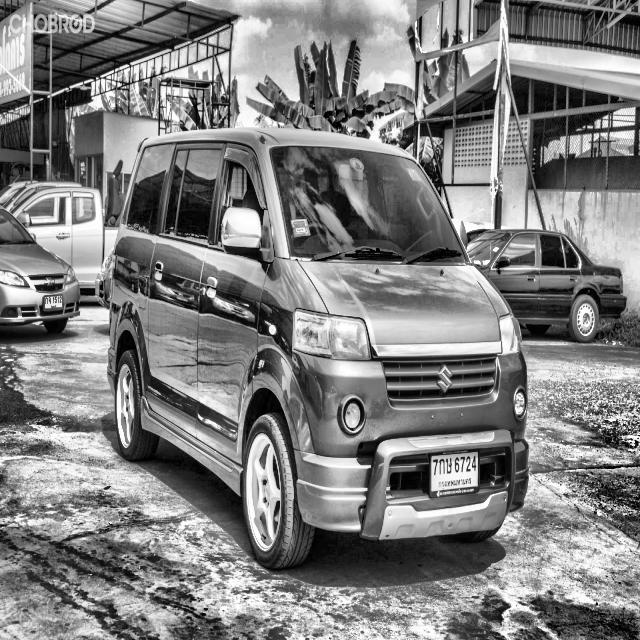license-plate: (428, 452, 482, 497), (42, 294, 64, 312)
